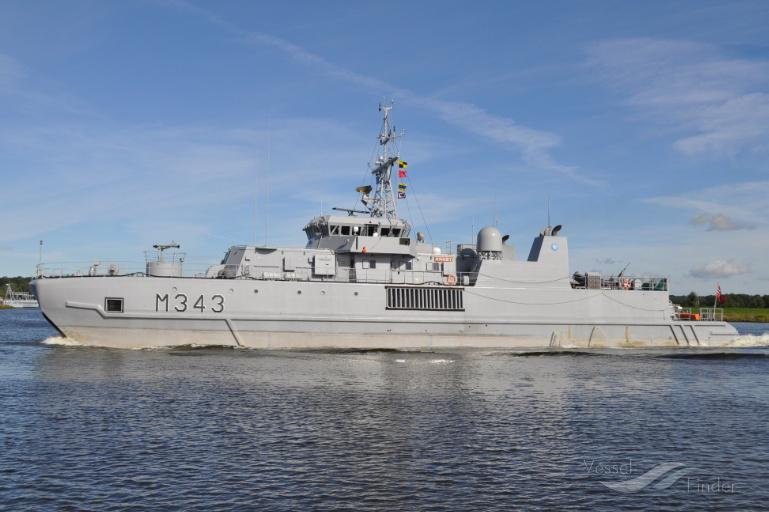OCR: (151, 287, 224, 314)
